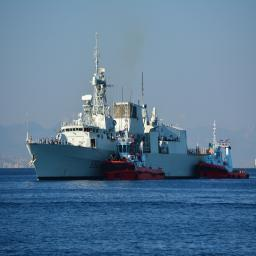Fragata: (26, 29, 236, 183)
